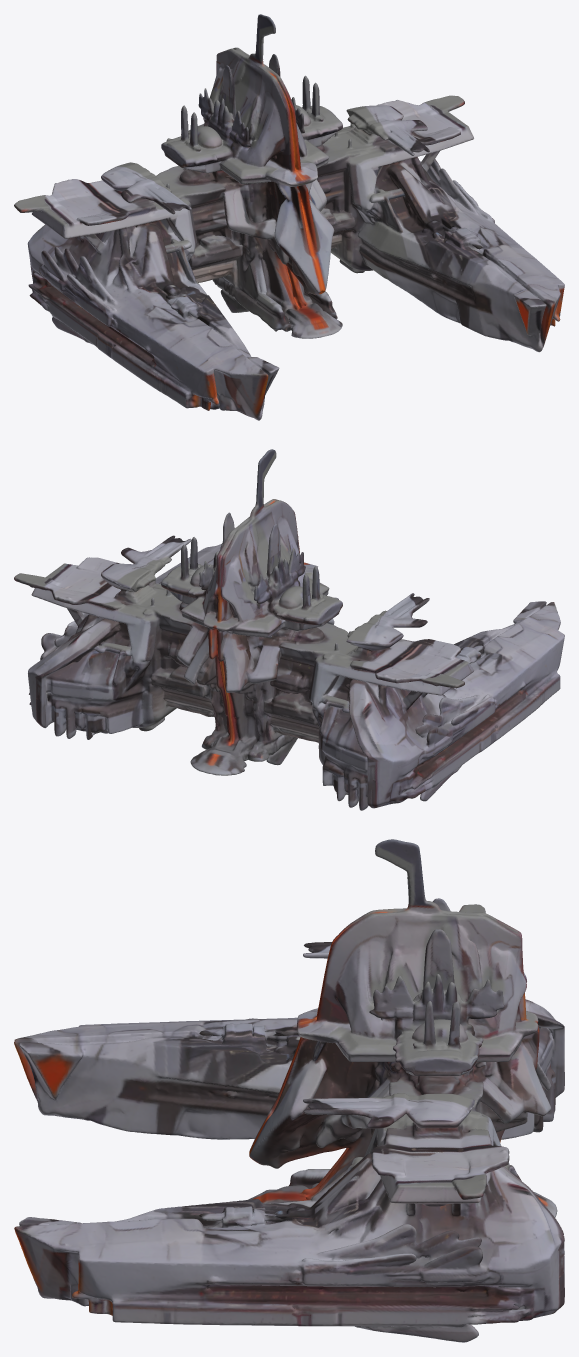
File: futuristic-starship-original.glb
The picture shows the model from 3 angles, top to bottom: view 1: azimuth 30°, elevation 25°; view 2: azimuth 150°, elevation 25°; view 3: azimuth 270°, elevation 25°; orthographic projection. The views are drawn at different scales.
Parts seen in each view (by area): view 1: tripo_node_ce630f26-50a9-4ffc-b2bb-a72698e4d310; view 2: tripo_node_ce630f26-50a9-4ffc-b2bb-a72698e4d310; view 3: tripo_node_ce630f26-50a9-4ffc-b2bb-a72698e4d310.
Boxes of the visible parts, x1=… form: tripo_node_ce630f26-50a9-4ffc-b2bb-a72698e4d310: x1=14, y1=14, x2=564, y2=420; tripo_node_ce630f26-50a9-4ffc-b2bb-a72698e4d310: x1=14, y1=449, x2=564, y2=810; tripo_node_ce630f26-50a9-4ffc-b2bb-a72698e4d310: x1=14, y1=839, x2=564, y2=1342.
Size of the model in its own units: 1 by 0.6415 by 0.8002.
Materials: 1 (1 with a texture image).
